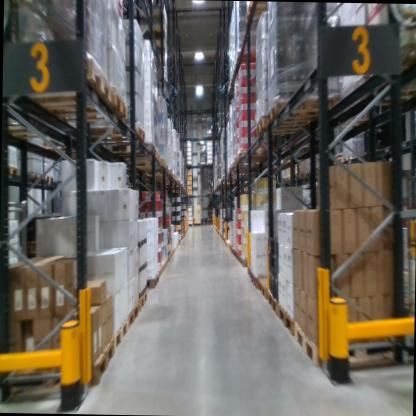pallet: (290, 313, 409, 377), (6, 334, 114, 399), (30, 85, 139, 122), (360, 49, 416, 115), (265, 91, 344, 129), (51, 52, 111, 101), (54, 118, 149, 145), (255, 113, 331, 135), (97, 138, 156, 155), (110, 314, 128, 356), (275, 302, 295, 336), (245, 2, 275, 22), (256, 276, 277, 304), (123, 149, 161, 162), (125, 300, 139, 335), (238, 147, 273, 161), (233, 154, 273, 165), (267, 286, 279, 315), (136, 287, 148, 313), (247, 266, 260, 288), (4, 159, 19, 177), (41, 172, 59, 186), (144, 274, 159, 290), (339, 152, 356, 166), (26, 169, 45, 181), (238, 255, 251, 270), (331, 155, 343, 168), (311, 163, 321, 174), (304, 165, 312, 176), (245, 264, 251, 277), (160, 261, 164, 277), (157, 265, 162, 277), (165, 253, 170, 265), (206, 189, 213, 197), (168, 250, 173, 260), (235, 254, 240, 263), (229, 245, 234, 254), (163, 258, 167, 269), (283, 174, 289, 181), (200, 221, 208, 226), (207, 220, 214, 225), (207, 161, 214, 166), (234, 246, 237, 256), (200, 163, 207, 166), (187, 163, 191, 167)
